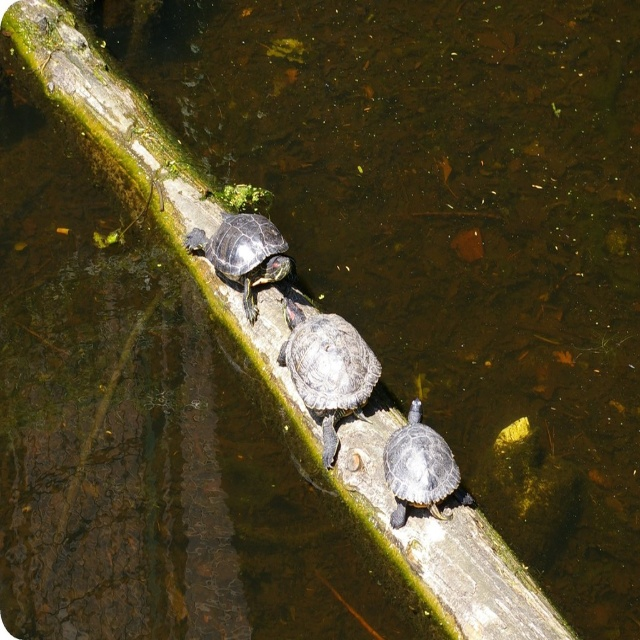Sea turtle: (275, 295, 382, 473), (181, 208, 302, 324), (381, 395, 476, 533)
